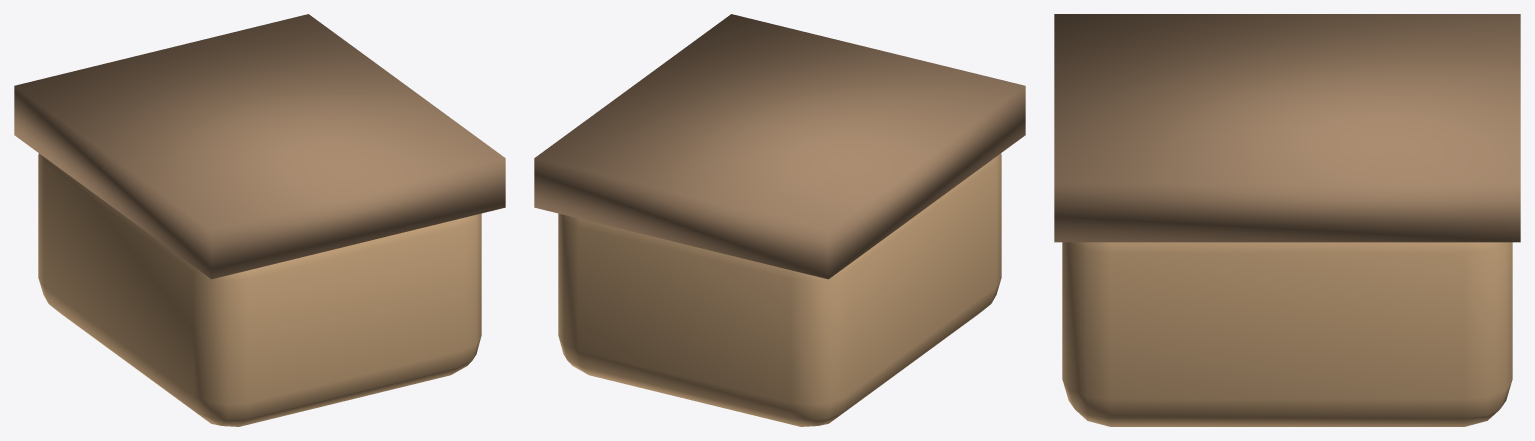
Rendered from costume_backpack.glb.
3 renders of one model, left to right at view 1: azimuth 30°, elevation 25°; view 2: azimuth 150°, elevation 25°; view 3: azimuth 270°, elevation 25°, orthographic. The views are drawn at different scales.
Parts seen in each view (by area): view 1: costume_backpack_flap, costume_backpack_body; view 2: costume_backpack_flap, costume_backpack_body; view 3: costume_backpack_flap, costume_backpack_body.
Part boxes in pixels (left/top/right/bottom): costume_backpack_flap: left=14, top=14, right=505, bottom=279; costume_backpack_body: left=38, top=153, right=481, bottom=426; costume_backpack_flap: left=534, top=14, right=1025, bottom=279; costume_backpack_body: left=558, top=153, right=1001, bottom=426; costume_backpack_flap: left=1054, top=14, right=1520, bottom=242; costume_backpack_body: left=1062, top=242, right=1512, bottom=426.
Size of the model in its own units: 0.025 by 0.018 by 0.029.
